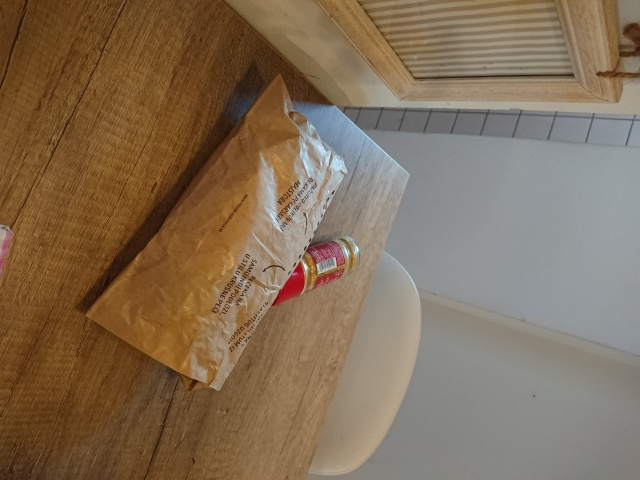Kotanyi Curry Spices Mix 70g: (253, 231, 361, 308)
